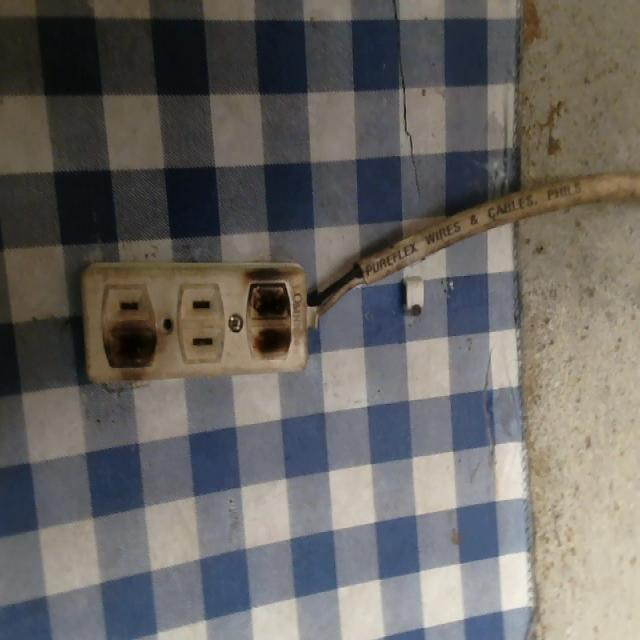-: (243, 255, 302, 368), (96, 309, 163, 368)
